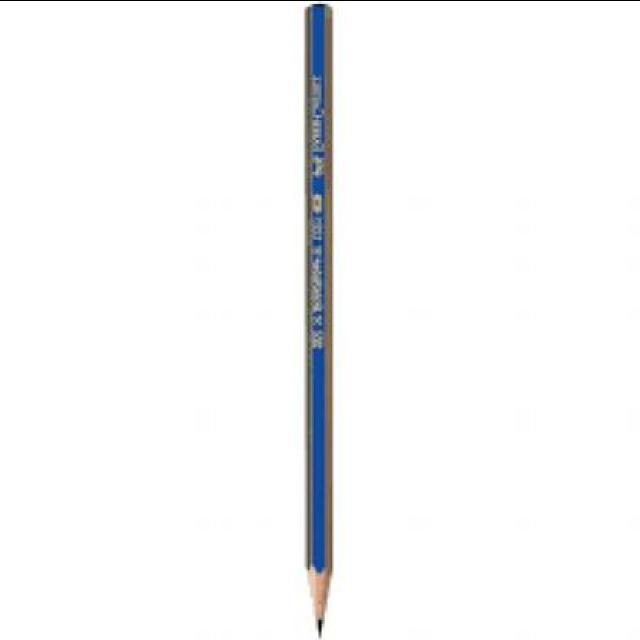pencil: (290, 540, 342, 640)
